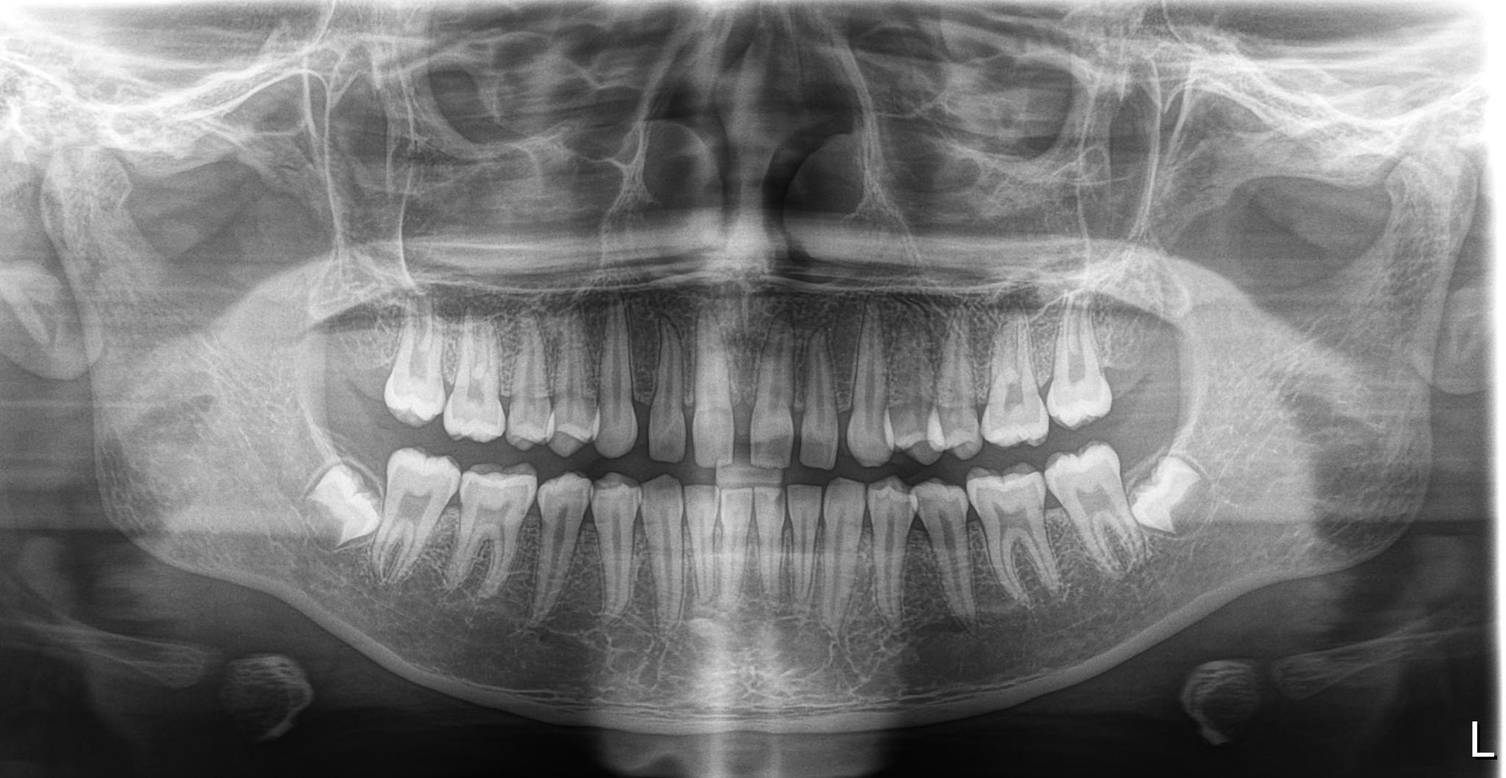Impacted Third Molar: (301, 459, 385, 546), (1140, 457, 1213, 539)
Missing Tooth: (1104, 299, 1180, 399), (324, 294, 390, 408)
